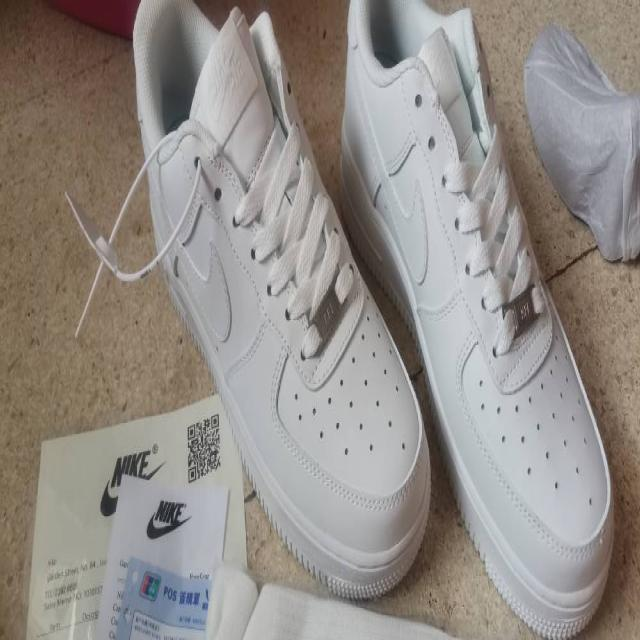nike fake air force: (130, 1, 431, 608), (336, 0, 615, 640)
